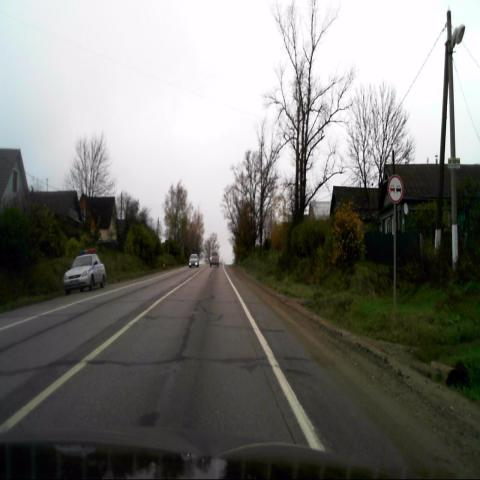3_20: (387, 175, 402, 202)
